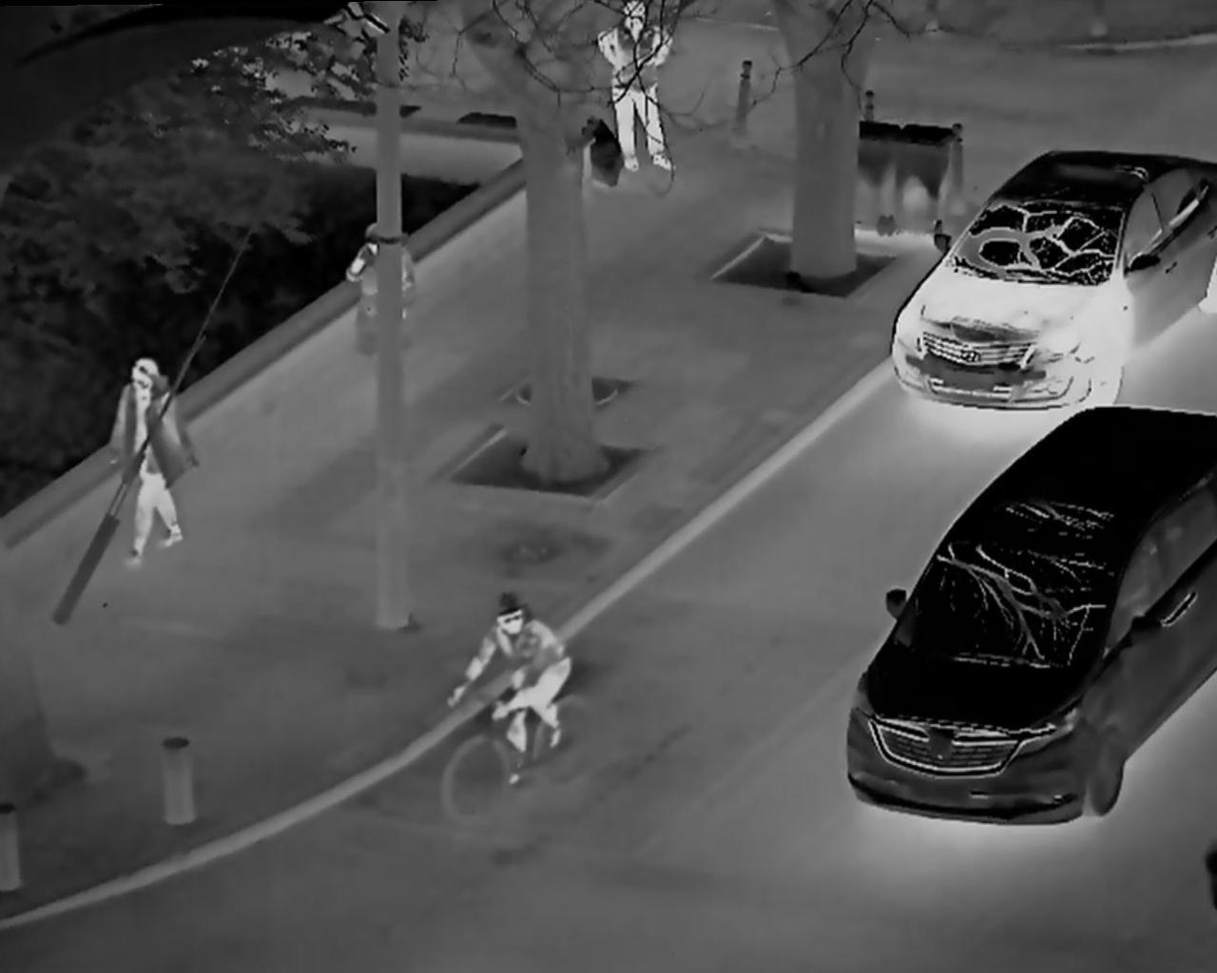person: (443, 581, 587, 802), (111, 354, 201, 568), (599, 5, 682, 188)
